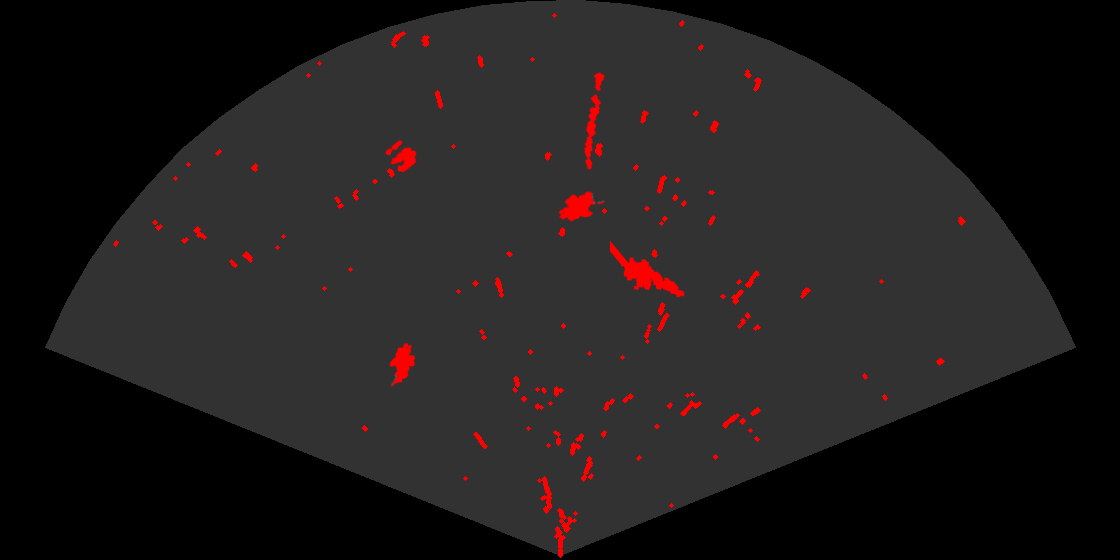AUV: (557, 190, 606, 223), (388, 342, 417, 388)
ball: (384, 138, 418, 174)
chain: (583, 70, 606, 171)
frogman: (610, 241, 686, 299)
